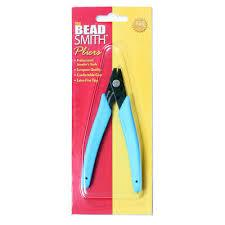pliers: (79, 65, 144, 193)
